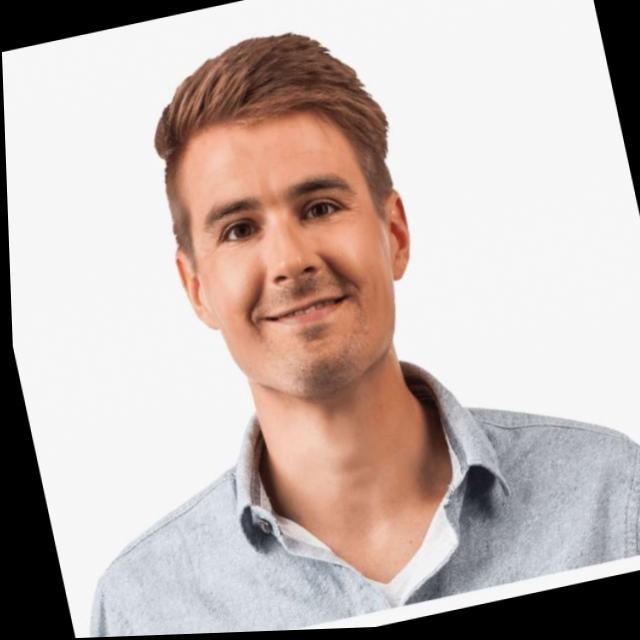Nonhelmet: (149, 29, 418, 401)
